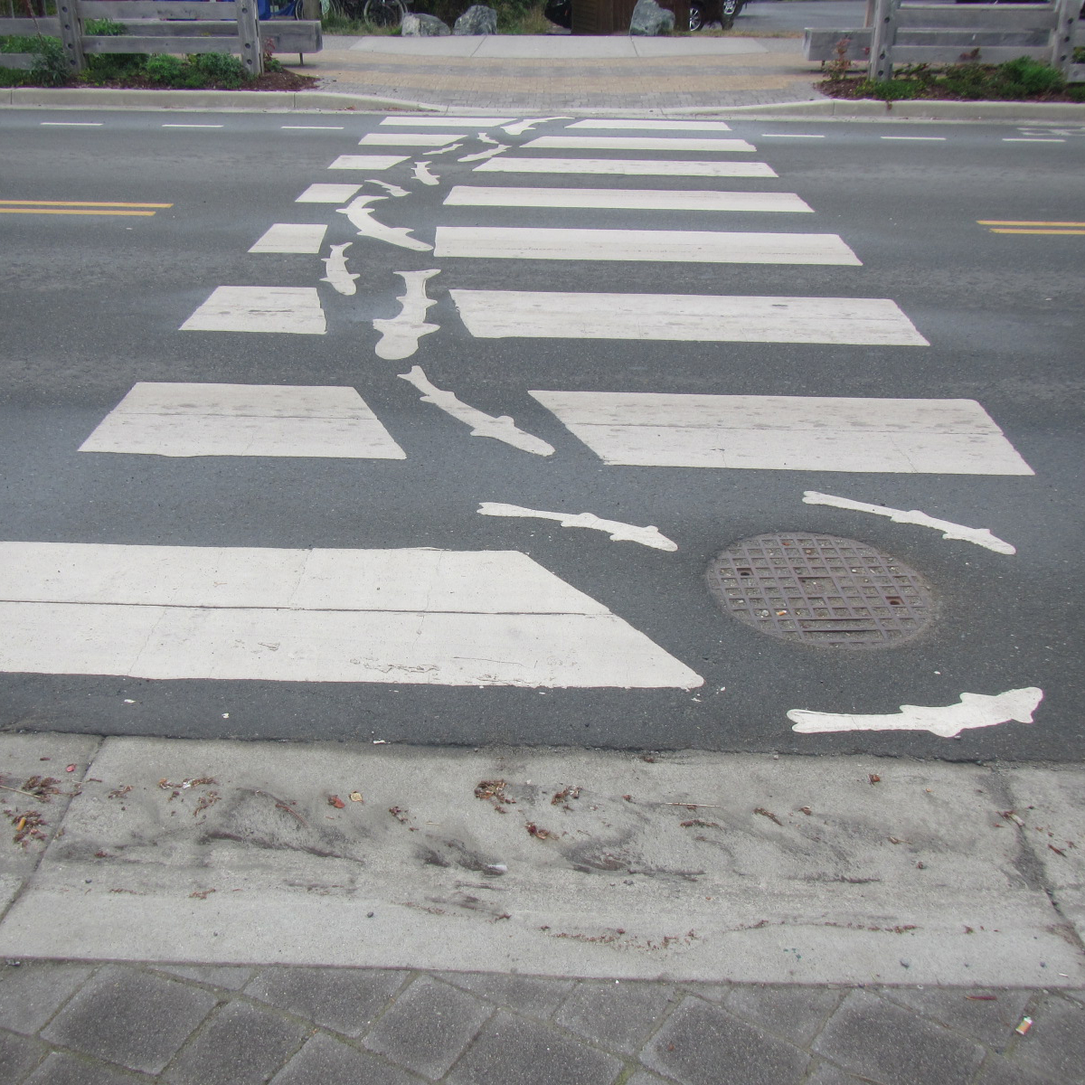Crosswalk: (4, 319, 1085, 759), (275, 99, 945, 383)
